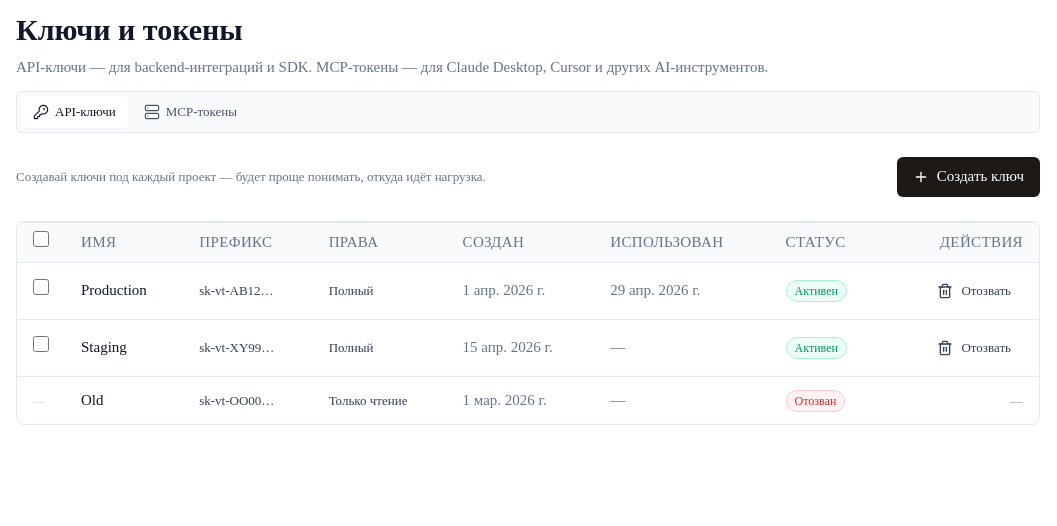
Test: KeysPage bulk operations (Sprint 8) › checkbox активного ключа toggle-ит выделение и показывает BulkActionBar
What coordinates should you click on to do the following:
click the checkbox with test id "select-key-k-1"
I would click on:
 (41, 287)
Its box is [33,279,49,295].
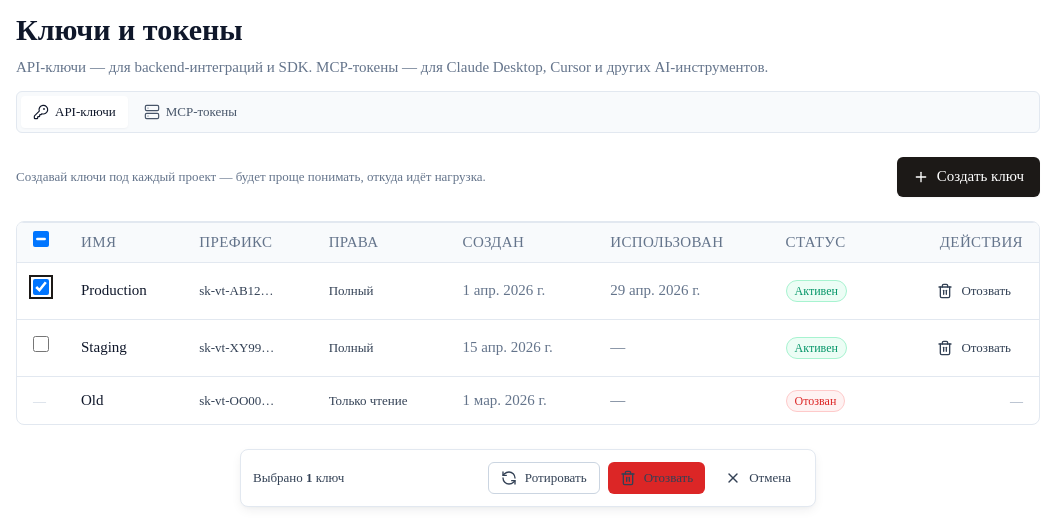
Expected: the element with test id "bulk-action-bar" is shown, [240,449,816,507]
Expected: the text "Выбрано 1 ключ" is shown, [253,468,344,488]
Expected: the text "1" is shown, [306,470,312,485]
